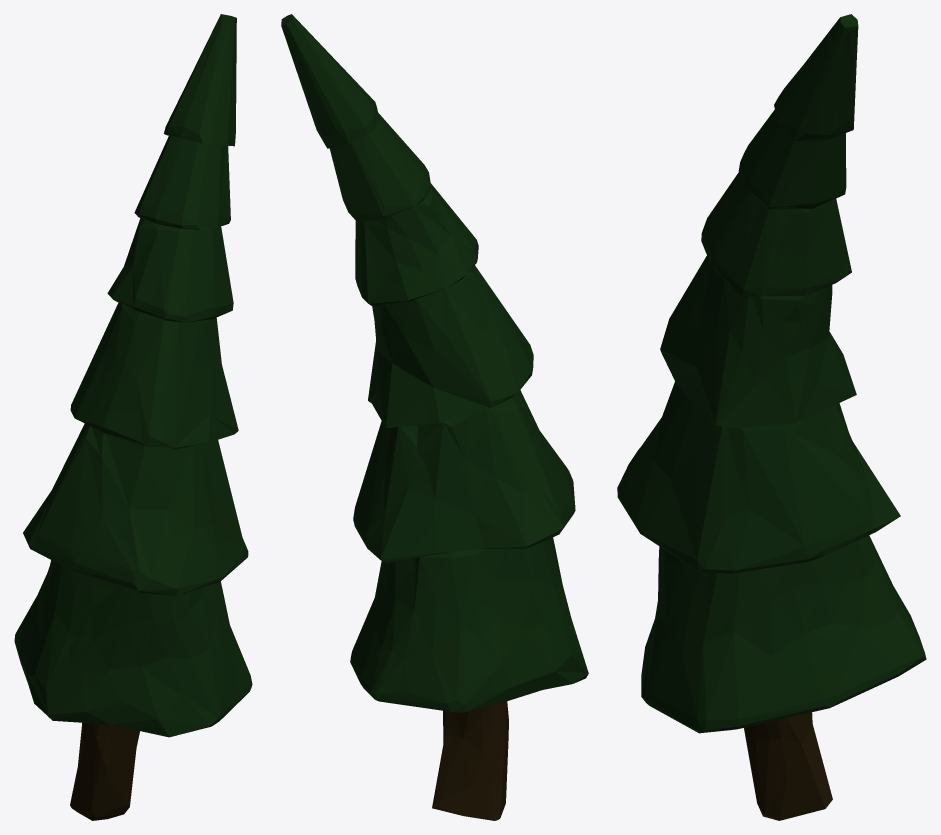
Rendered from SM_tree_22.fbx.
3 renders of one model, left to right at view 1: azimuth 30°, elevation 25°; view 2: azimuth 150°, elevation 25°; view 3: azimuth 270°, elevation 25°, orthographic. The views are drawn at different scales.
Visible parts, largest first — view 1: tree_22; view 2: tree_22; view 3: tree_22.
Part boxes in pixels (<box>): tree_22: <box>14,14,252,820</box>; tree_22: <box>281,14,588,820</box>; tree_22: <box>617,14,926,820</box>.
Size of the model in its own units: 438 by 1294 by 411.
